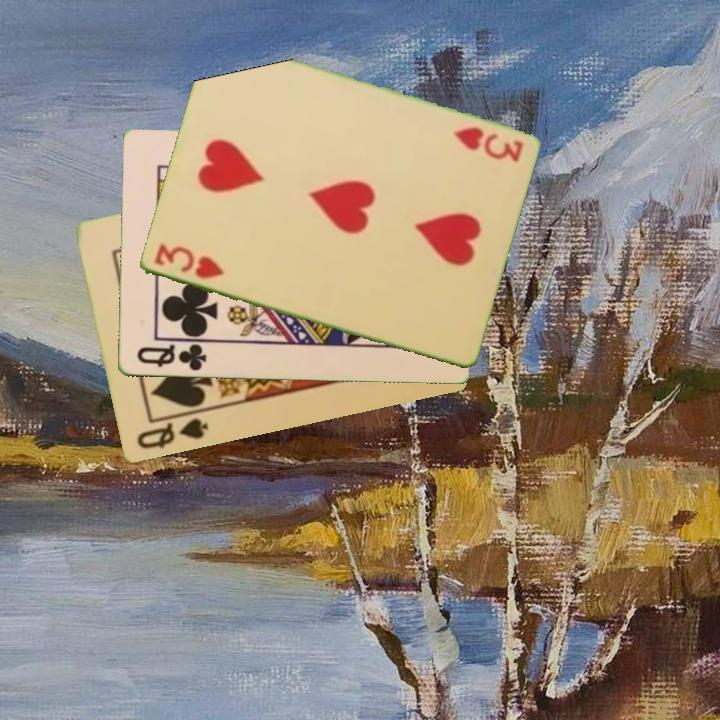3h: (150, 240, 227, 283), (449, 123, 526, 165)
Qc: (133, 340, 209, 375)
Qs: (133, 415, 211, 452)
